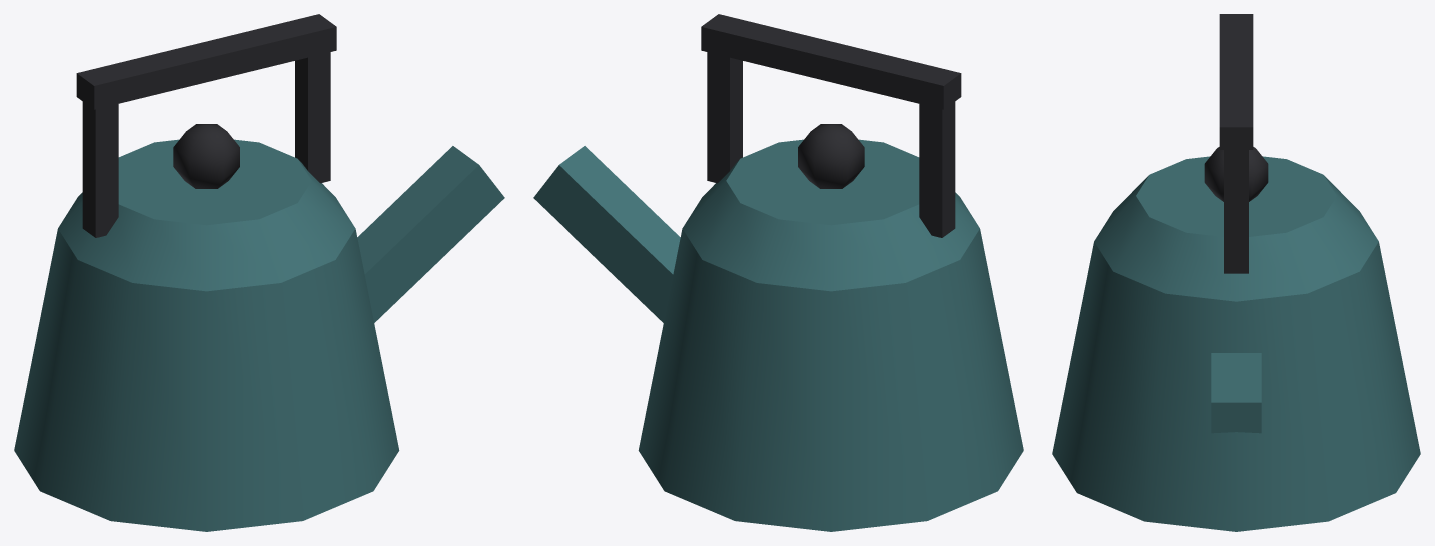
Rendered from kettle.glb.
3 renders of one model, left to right at view 1: azimuth 30°, elevation 25°; view 2: azimuth 150°, elevation 25°; view 3: azimuth 270°, elevation 25°, orthographic. The views are drawn at different scales.
Parts seen in each view (by area): view 1: #3f6f73 rough 0.4, #3f6f73 rough 0.4_noshadow, #2a2a2e_noshadow, #3f6f73_noshadow; view 2: #3f6f73 rough 0.4, #3f6f73 rough 0.4_noshadow, #2a2a2e_noshadow, #3f6f73_noshadow; view 3: #3f6f73 rough 0.4, #3f6f73 rough 0.4_noshadow, #2a2a2e_noshadow, #3f6f73_noshadow.
Boxes of the visible parts, x1=… form: #3f6f73 rough 0.4: x1=14, y1=229, x2=399, y2=531; #3f6f73 rough 0.4_noshadow: x1=58, y1=139, x2=355, y2=291; #2a2a2e_noshadow: x1=76, y1=14, x2=336, y2=237; #3f6f73_noshadow: x1=357, y1=146, x2=504, y2=322; #3f6f73 rough 0.4: x1=638, y1=229, x2=1023, y2=531; #3f6f73 rough 0.4_noshadow: x1=682, y1=139, x2=979, y2=291; #2a2a2e_noshadow: x1=701, y1=14, x2=961, y2=237; #3f6f73_noshadow: x1=533, y1=146, x2=680, y2=322; #3f6f73 rough 0.4: x1=1052, y1=242, x2=1420, y2=531; #3f6f73 rough 0.4_noshadow: x1=1094, y1=156, x2=1378, y2=301; #2a2a2e_noshadow: x1=1204, y1=14, x2=1268, y2=273; #3f6f73_noshadow: x1=1211, y1=353, x2=1261, y2=433.
Bounding box in the file's own units: 0.298 × 0.2525 × 0.22.
